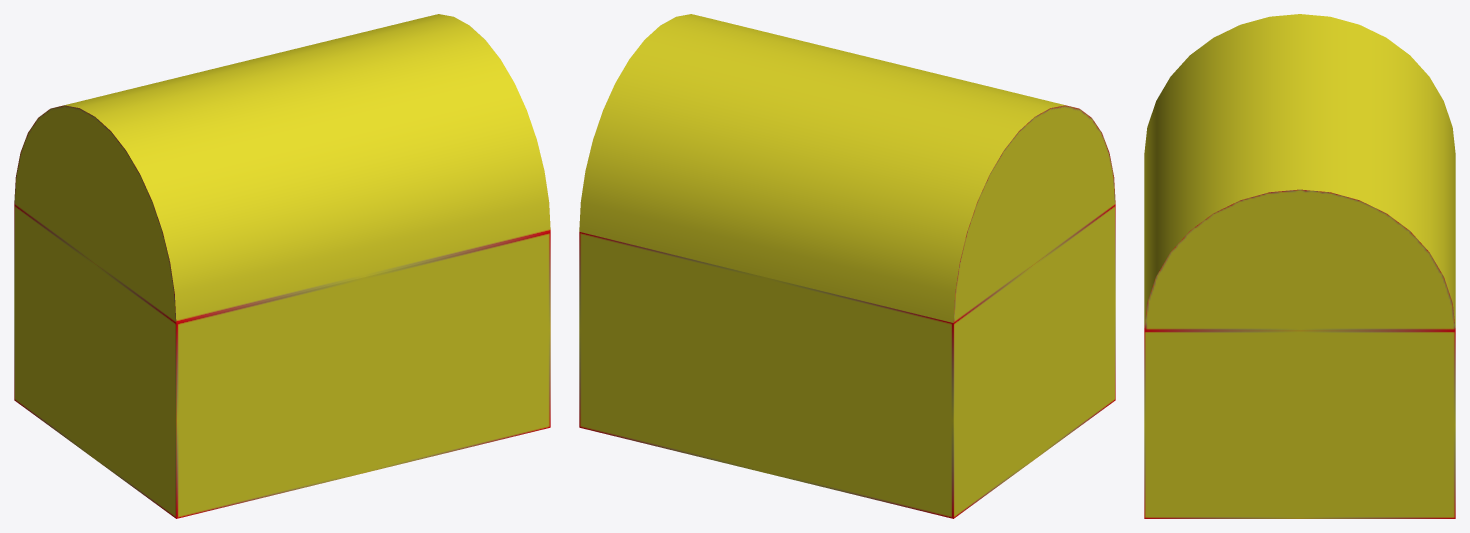
Rendered from Goal.obj.
3 views of the same model, side by side, from view 1: azimuth 30°, elevation 25°; view 2: azimuth 150°, elevation 25°; view 3: azimuth 270°, elevation 25° (orthographic). The views are drawn at different scales.
Visible parts, largest first — view 1: Cube; view 2: Cube; view 3: Cube.
Boxes of the visible parts, left/top/right/bottom form: Cube: left=14, top=14, right=550, bottom=518; Cube: left=579, top=14, right=1115, bottom=518; Cube: left=1144, top=14, right=1455, bottom=518.
Bounding box in the file's own units: 2 × 1.75 × 1.5.
Materials: 1 (1 with a texture image).
